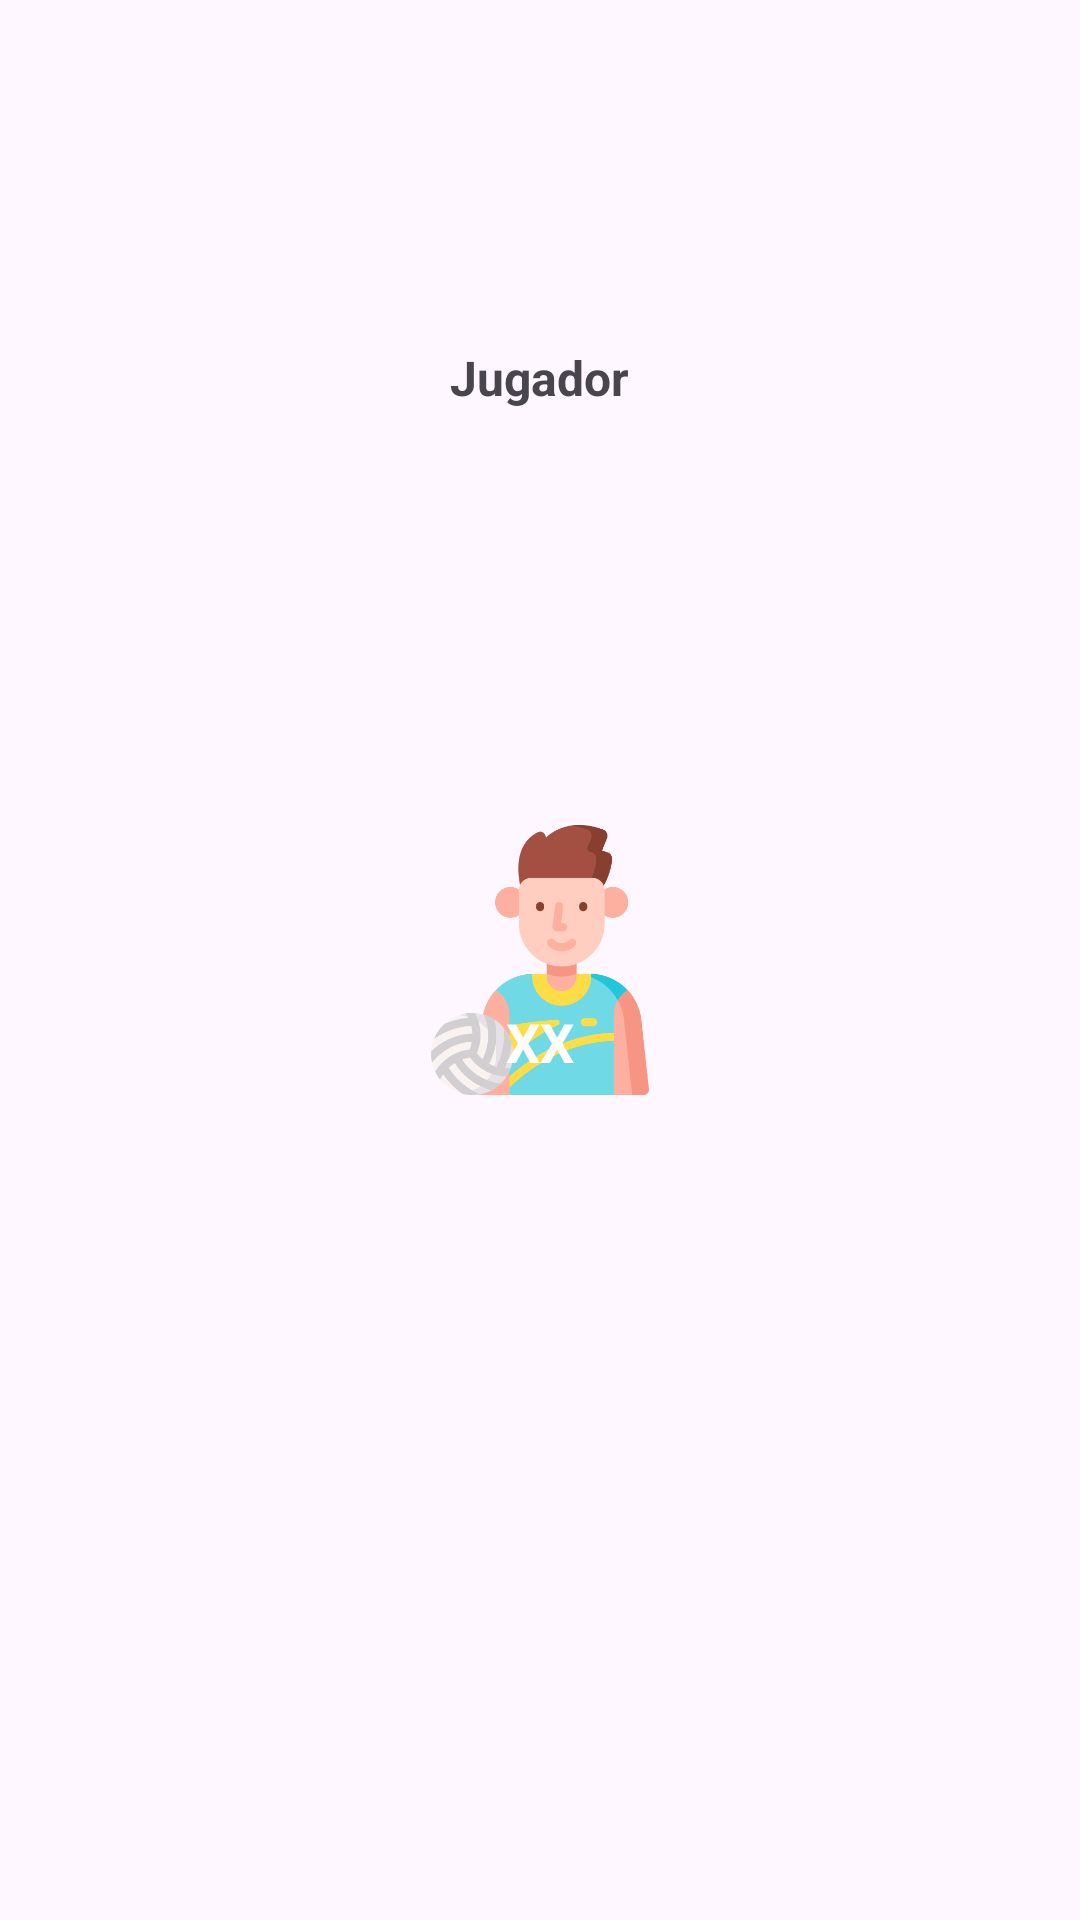

Icons on this 1080w x 1920h Android screen, each with its box as region(x1, y1, x2, y2):
player: region(431, 825, 649, 1095)
